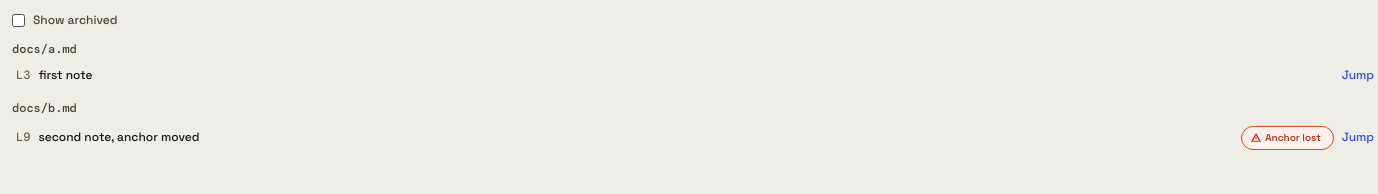
it: <NotesPanel /> › the Show archived toggle reveals archived notes
expect the button "first note" is shown: met, box [38, 67, 1334, 84]
expect the text "archived note" is not shown: met
Click the checkbox labelled "Show archived": {"x": 18, "y": 21} [12, 14, 25, 27]
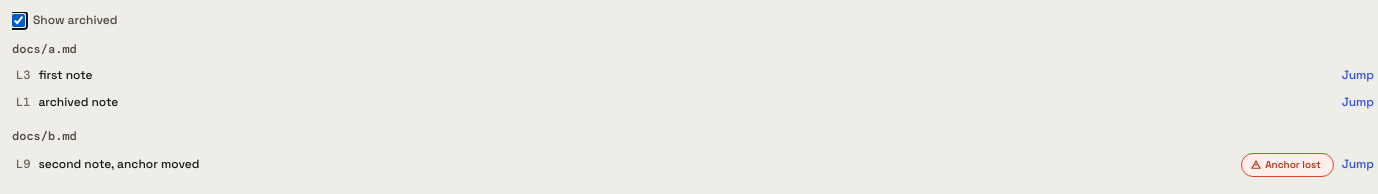
expect the button "archived note" is shown: met, box [38, 94, 1334, 112]
